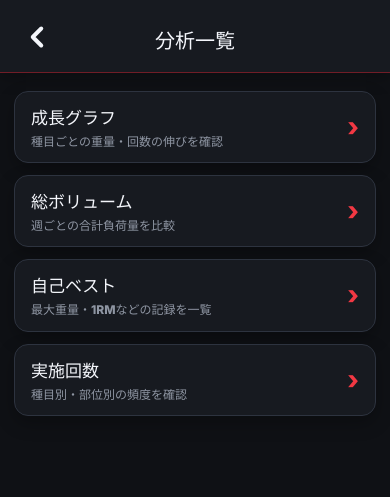
Scenario: AnalysisScreen › 詳細ページのヘッダに「自己ベスト」を表示する
Click the button "自己ベスト 最大重量・1RMなどの記録を一覧".
click(74, 286)  # box 14,259 -> 376,332
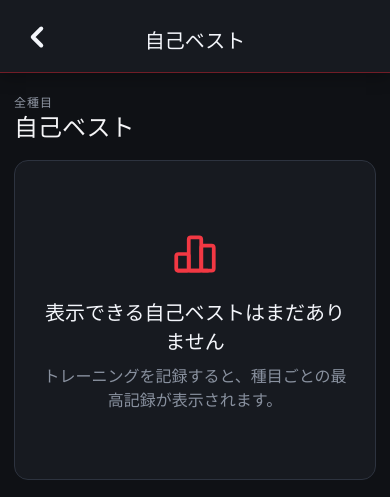
Check: the text "自己ベスト" is shown, box 145,28 -> 245,52
